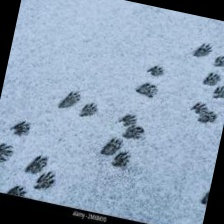raccoon: (54, 87, 83, 114), (23, 150, 48, 175), (133, 78, 159, 100), (190, 39, 214, 62), (200, 68, 223, 89)
